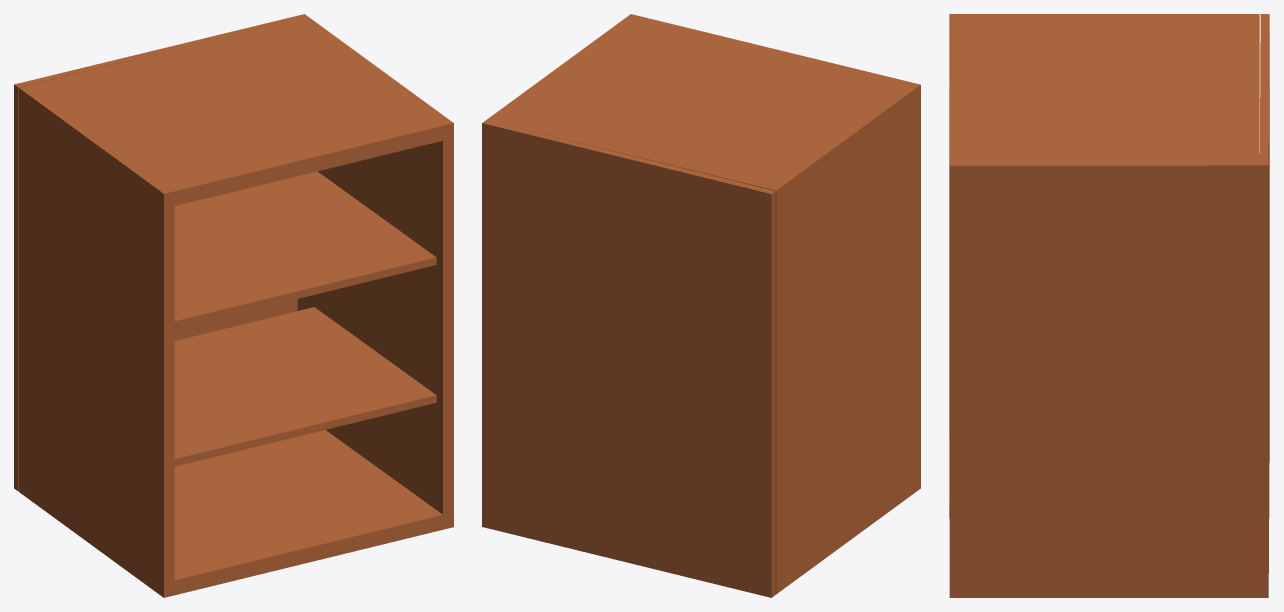
Rendered from cabinet.fbx.
3 views of the same model, side by side, from view 1: azimuth 30°, elevation 25°; view 2: azimuth 150°, elevation 25°; view 3: azimuth 270°, elevation 25° (orthographic). The views are drawn at different scales.
Parts seen in each view (by area): view 1: cabinet; view 2: cabinet; view 3: cabinet.
Boxes of the visible parts, left/top/right/bottom form: cabinet: left=14, top=14, right=453, bottom=597; cabinet: left=482, top=14, right=920, bottom=597; cabinet: left=949, top=14, right=1269, bottom=597.
Size of the model in its own units: 172 by 228 by 153.
